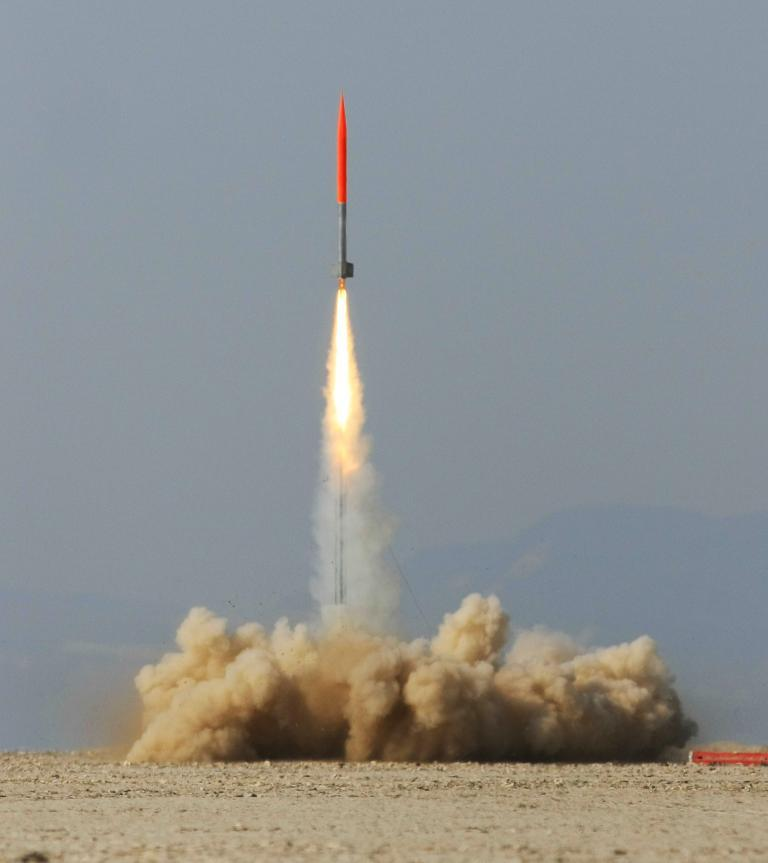Missile: (332, 98, 356, 296)
